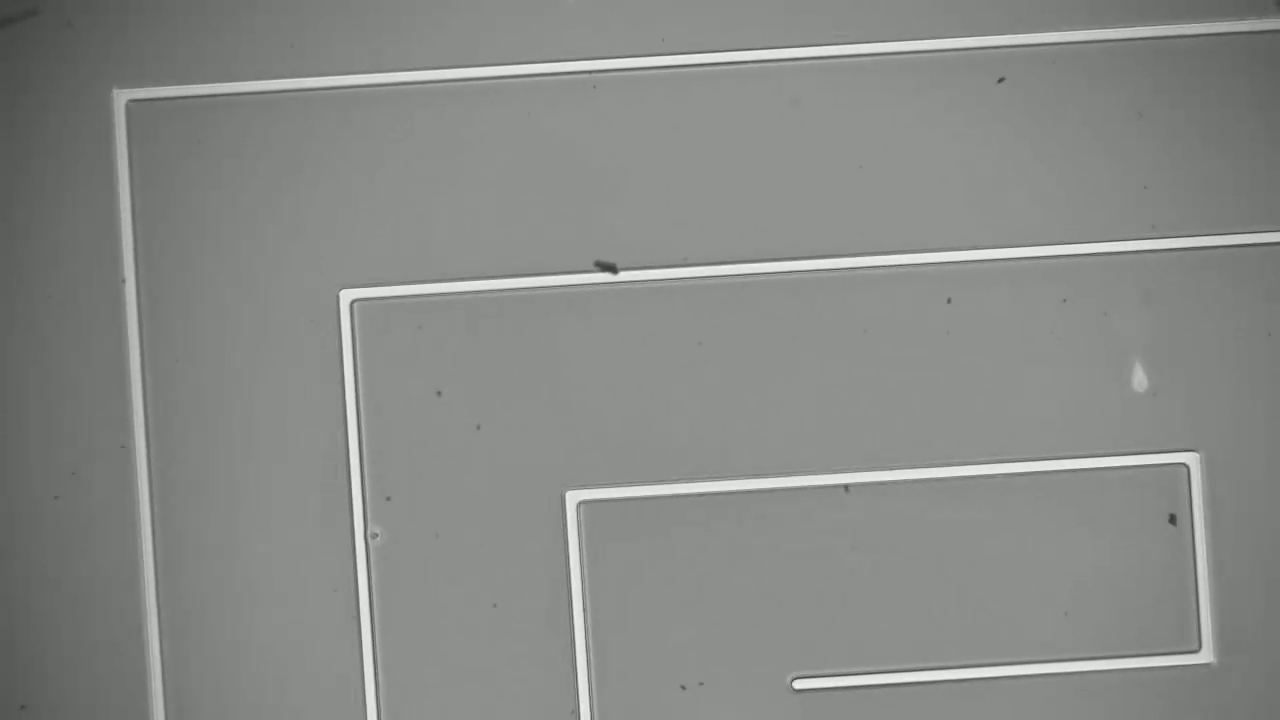stains_enbedded: (589, 251, 631, 293)
